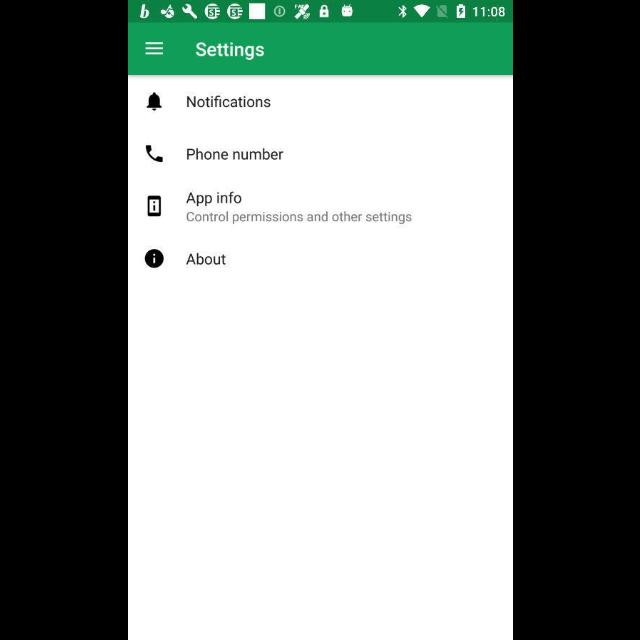icon: (144, 250, 162, 268), (146, 92, 162, 111), (147, 196, 161, 217), (144, 42, 164, 56)
image: (146, 146, 162, 162)
text: (186, 212, 410, 224), (194, 42, 264, 62), (186, 148, 284, 160), (186, 96, 270, 108), (186, 192, 240, 206), (186, 253, 224, 265)
toolbar: (128, 24, 512, 76)
uppertaskbar: (128, 1, 512, 23)
